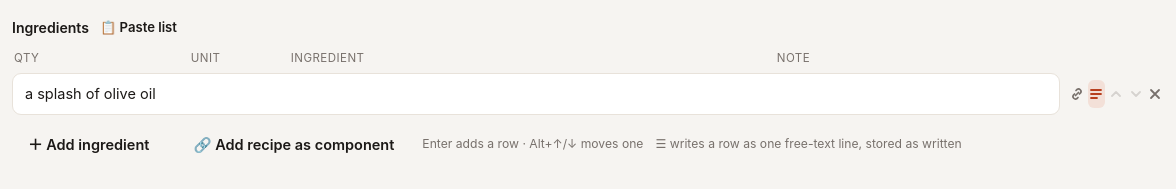
Test: IngredientRows undo + reorder safety › an edit made between two toggles is not discarded
Click the button named "Write this line as free text" at (1096, 94), box [1088,80,1105,108]
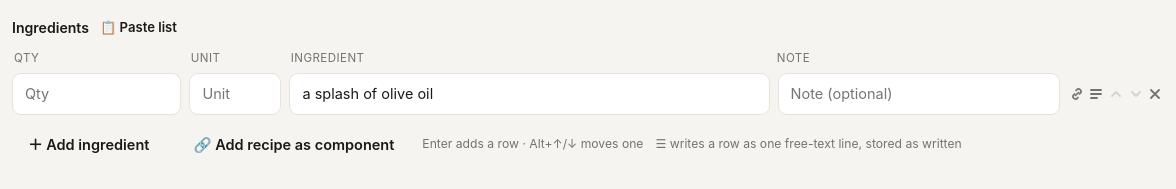
Replace the text in the dropdown named "Ingredient" with "extra virgin olive oil" at (530, 94), box [290,73,770,115]
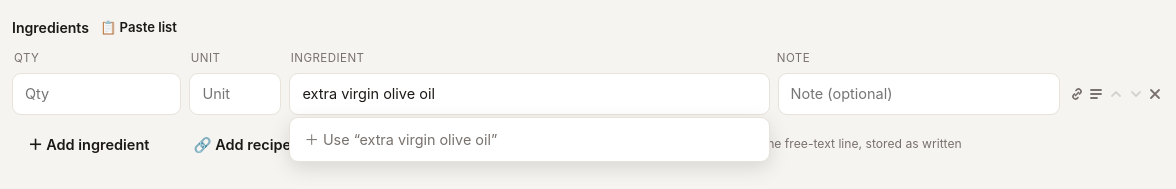
Click the button named "Write this line as free text" at (1096, 94), box [1088,80,1105,108]
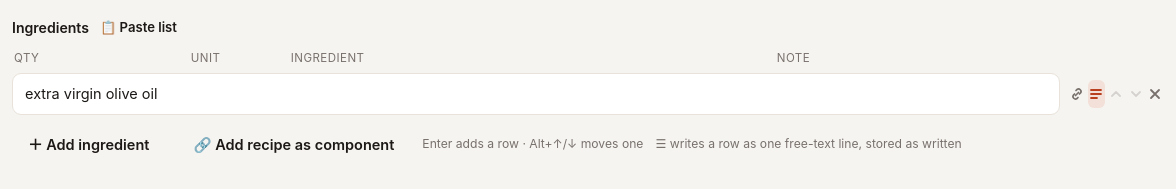
Check: the field with class "ftxt" holds "extra virgin olive oil", box [12,73,1060,115]
